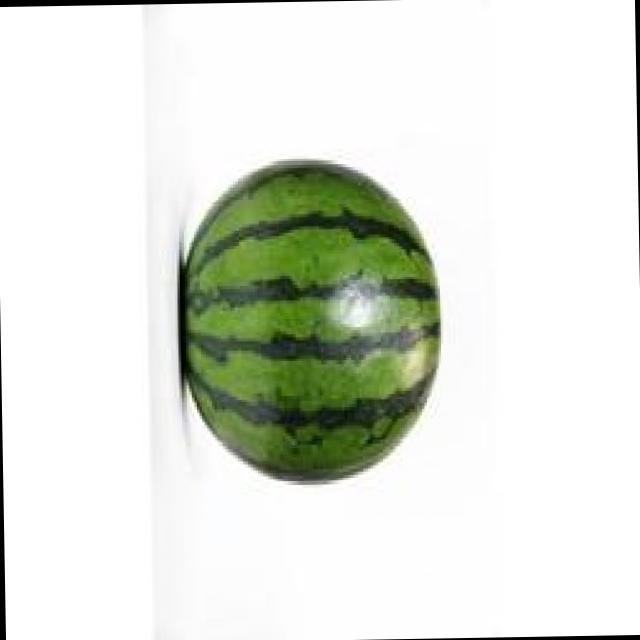watermelon: (176, 153, 448, 488)
